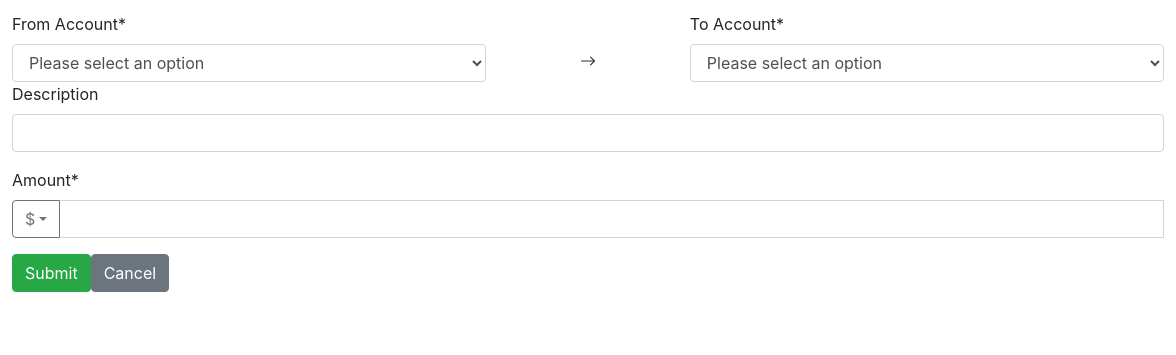
Test: TransactionForm › Amount › renders the min validation error for Amount when value is -10
Step 1. Type "-10" into the number field with test id "amount" → (612,219), box [59, 200, 1164, 238]
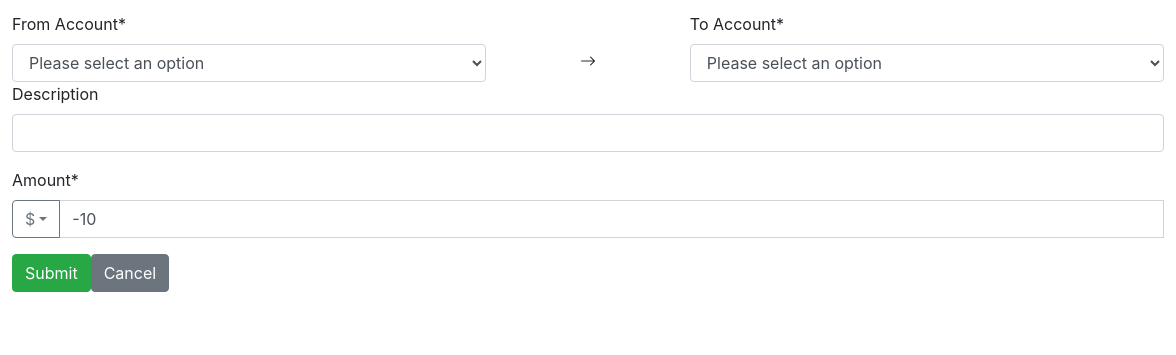
Step 2. Click the button with test id "submit" → (51,273), box [12, 254, 91, 292]
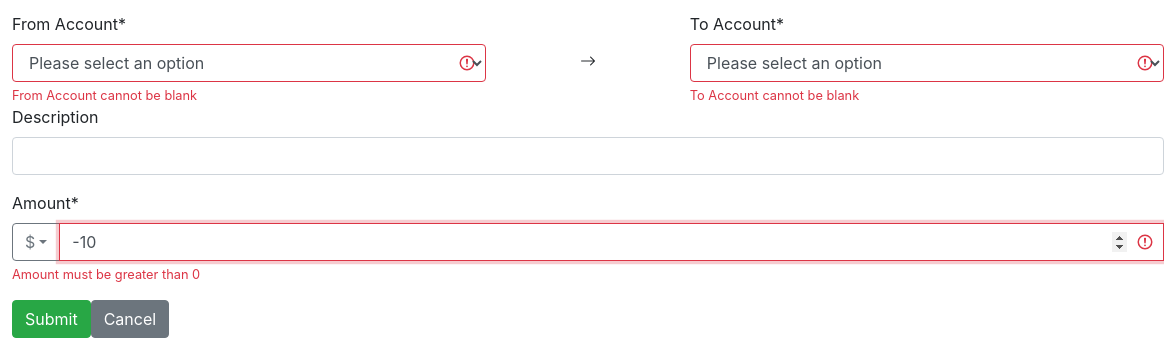
Expected: the text with test id "invalid-amount" reads "Amount must be greater than 0", [12, 267, 200, 282]
